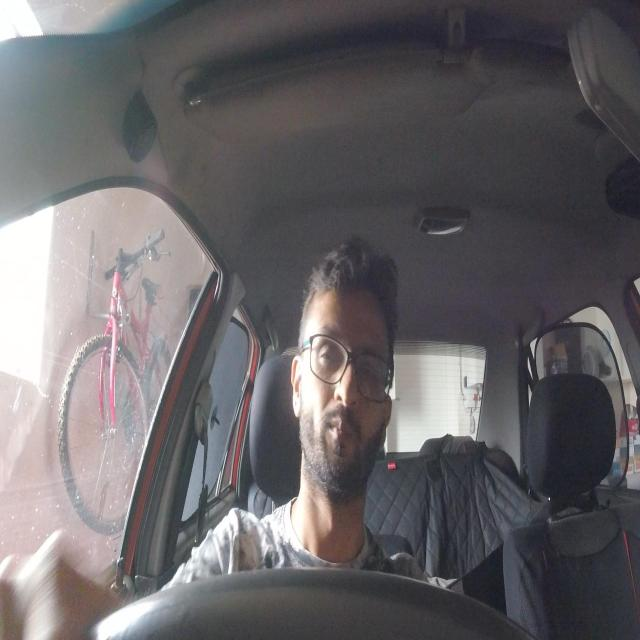close: (315, 325, 348, 380)
